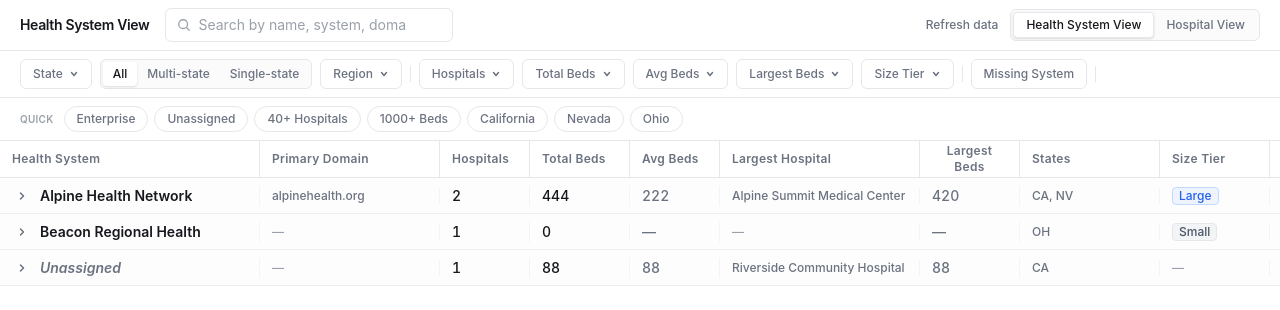
Test: HealthSystemView with quick chips and pills › clicking California chip filters by state (VAL-FILTER-028)
Expected: the table named "Health System View" is shown, [0,141,1279,286]
Click the button "California": (508, 119) [467,106,548,132]
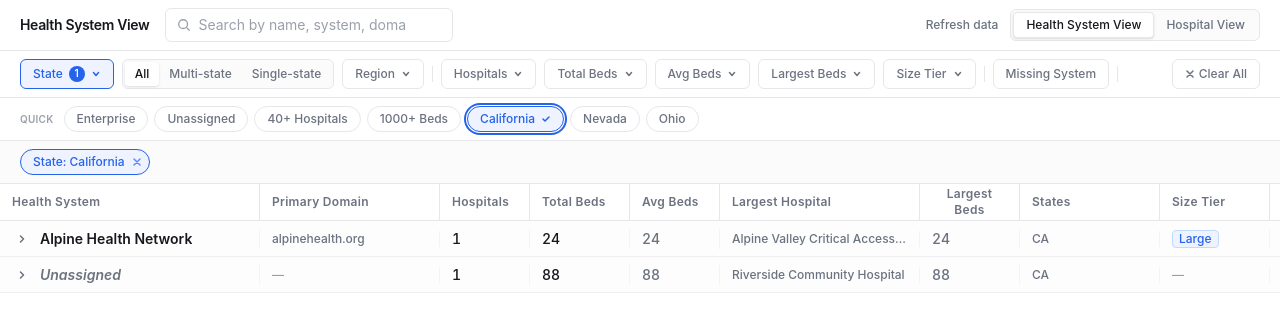
Result: the button "State 1" is shown at [20,59,114,89]
Result: the text "State: California" is shown at [33,154,125,170]
